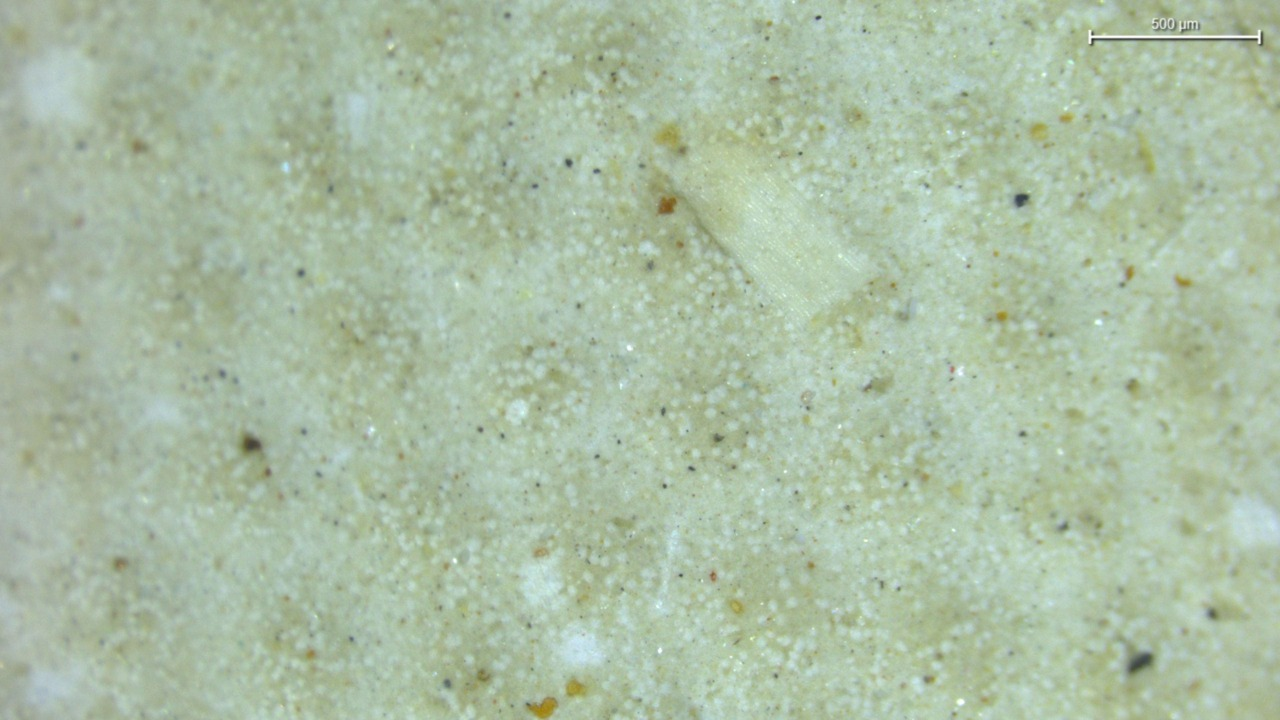microplastic_fragment: (682, 145, 872, 318)
